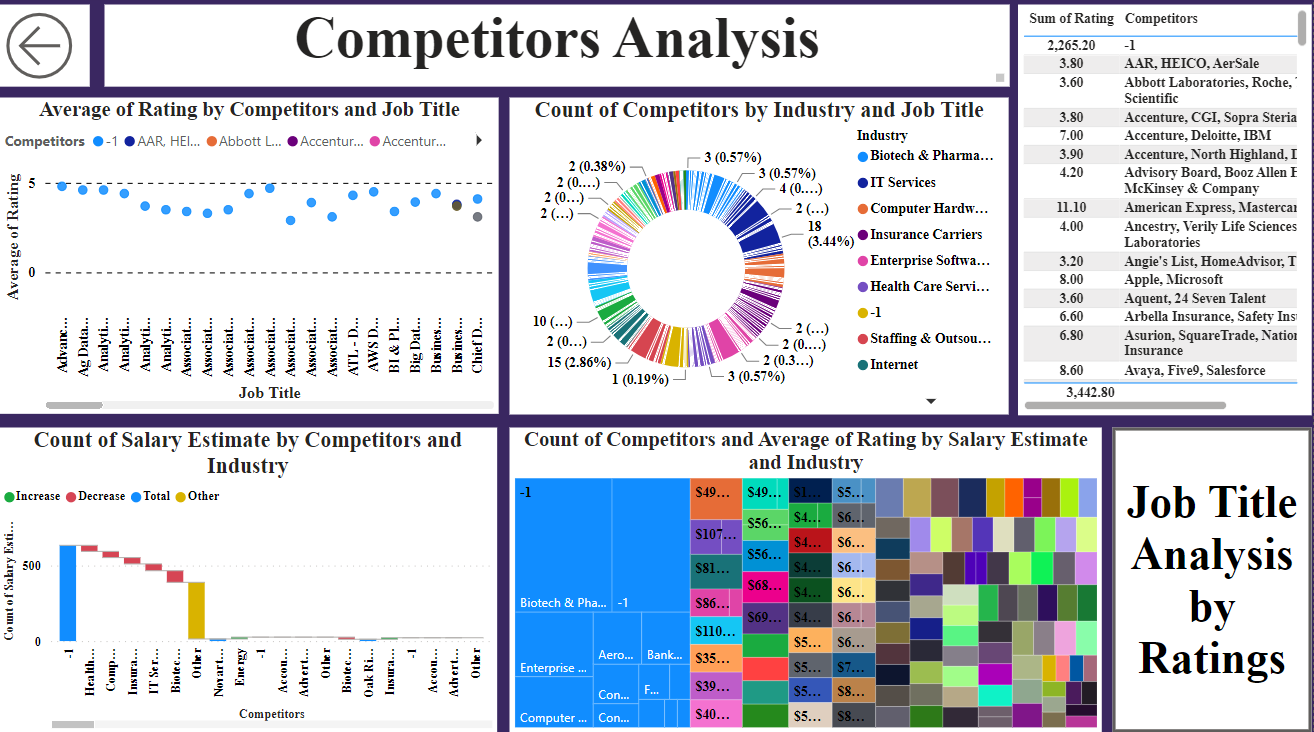

Layout of this report page (visuals, bound fields, positions):
{"tool":"powerbi","page":{"name":"Competitors  Analysis","canvas":[1280,720],"ordinal":2},"visuals":[{"type":"scatterChart","fields":{"Series":["glassdoor_jobs.Competitors"],"X":["glassdoor_jobs.Job Title"],"Y":["Avg(glassdoor_jobs.Rating)"]},"box":[1.5,100.8,486.3,308.2],"z":0},{"type":"actionButton","box":[0,10.2,89.1,80.3],"z":1000},{"type":"waterfallChart","fields":{"Category":["glassdoor_jobs.Competitors"],"Y":["CountNonNull(glassdoor_jobs.Salary Estimate)"],"Breakdown":["glassdoor_jobs.Industry"]},"box":[0,422.1,486.3,297.9],"z":2000},{"type":"textbox","title":"Competitors Analysis","box":[103,10.6,881.3,80.3],"z":3000},{"type":"donutChart","fields":{"Category":["glassdoor_jobs.Industry"],"Series":["glassdoor_jobs.Job Title"],"Y":["CountNonNull(glassdoor_jobs.Competitors)"]},"box":[498.2,101.5,486.1,308.9],"z":4000},{"type":"tableEx","fields":{"Values":["Sum(glassdoor_jobs.Rating)","glassdoor_jobs.Competitors"]},"box":[993.3,10.6,286.2,399.8],"z":5000},{"type":"treemap","fields":{"Values":["CountNonNull(glassdoor_jobs.Competitors)"],"Group":["glassdoor_jobs.Salary Estimate"],"Details":["glassdoor_jobs.Industry"]},"box":[498.2,422.5,576.9,296.8],"z":6000},{"type":"actionButton","box":[1085.7,422.5,193.8,296.8],"z":7000}]}

Visuals, with their boxes in screenshot pixels (x1, y1, x2, y2), scaled from the page's 1280x720 canvas onto the 1314x732 screenshot:
scatterChart - glassdoor_jobs.Competitors x glassdoor_jobs.Job Title: region(2, 102, 501, 416)
actionButton: region(0, 10, 91, 92)
waterfallChart - glassdoor_jobs.Competitors x CountNonNull(glassdoor_jobs.Salary Estimate): region(0, 429, 499, 731)
"Competitors Analysis" textbox: region(106, 11, 1010, 92)
donutChart - glassdoor_jobs.Industry x glassdoor_jobs.Job Title: region(511, 103, 1010, 417)
tableEx - Sum(glassdoor_jobs.Rating) x glassdoor_jobs.Competitors: region(1020, 11, 1313, 417)
treemap - CountNonNull(glassdoor_jobs.Competitors) x glassdoor_jobs.Salary Estimate: region(511, 430, 1104, 731)
actionButton: region(1115, 430, 1313, 731)
